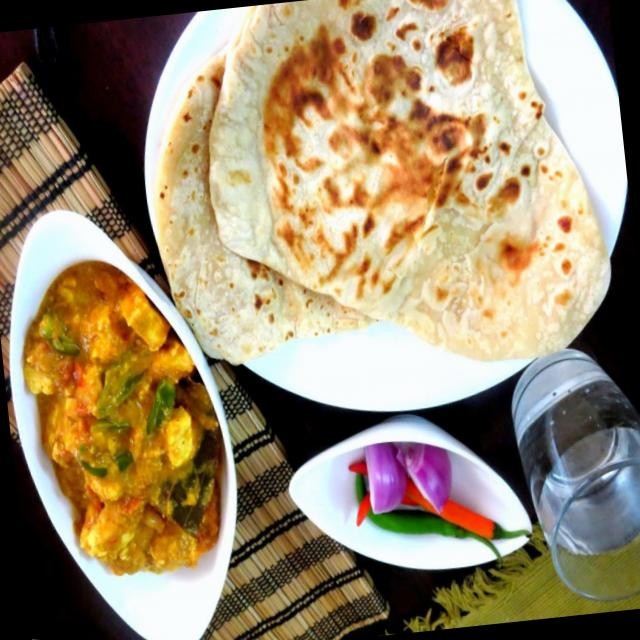ShahiPaneer: (7, 244, 230, 593)
